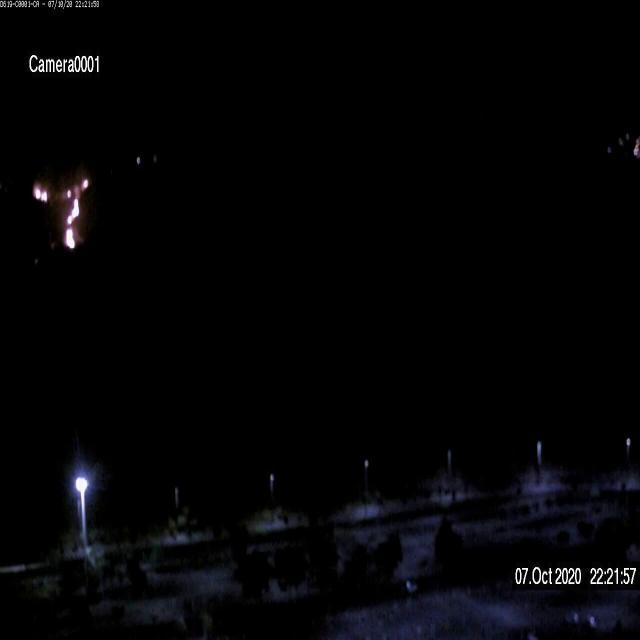Fire: (63, 175, 91, 250), (33, 182, 50, 202)
